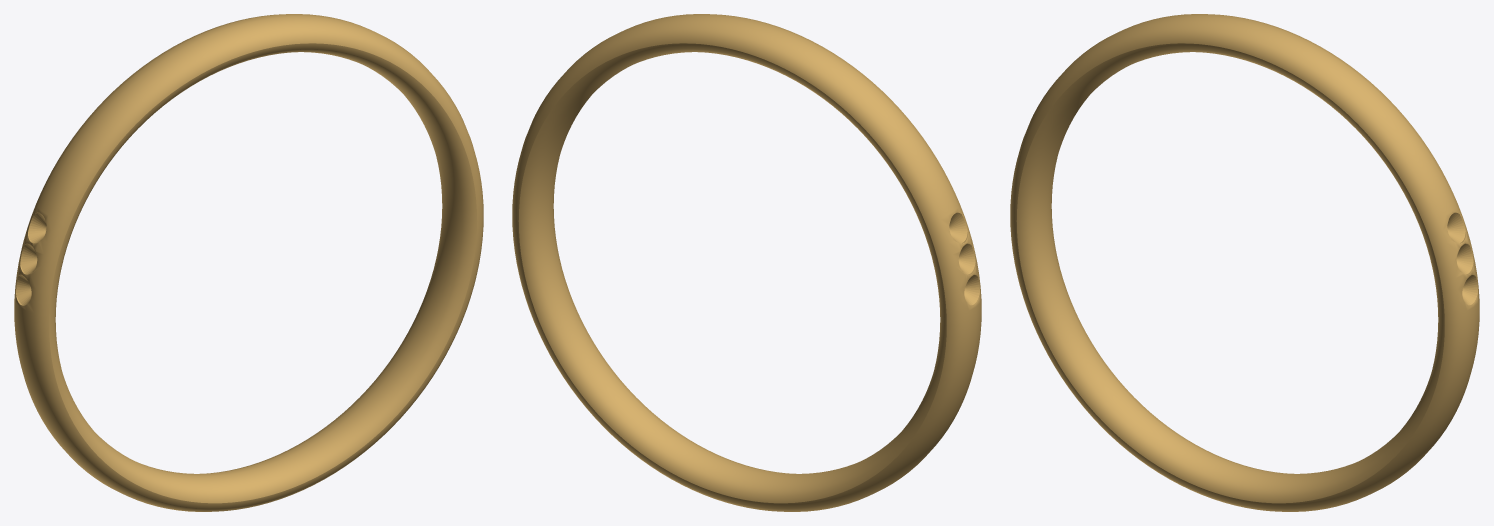
The model's file is rounded-micro-pave-multi.glb.
3 views of the same model, side by side, from view 1: azimuth 30°, elevation 25°; view 2: azimuth 150°, elevation 25°; view 3: azimuth 330°, elevation 25° (orthographic).
Visible parts, largest first — view 1: Band; view 2: Band; view 3: Band.
Part boxes in pixels (x1,y1,x2,y2): Band: [14, 14, 483, 511]; Band: [512, 14, 981, 511]; Band: [1010, 14, 1479, 511].
Bounding box in the file's own units: 19.6 × 19.6 × 2.1.
